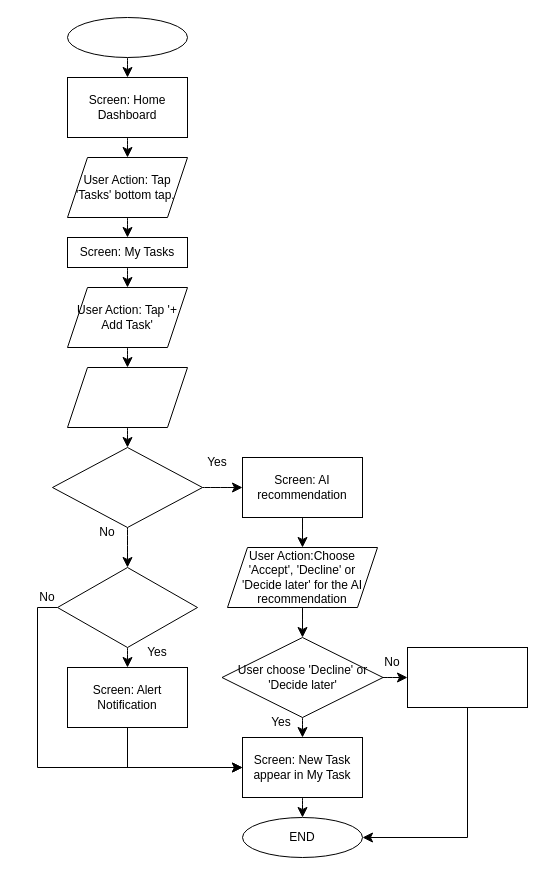
This 545x875 diagram has some shape labels left out. Here are the shapes that lost their labels. From the top down, the centre of each, then its label:
(127,37): START
(127,397): User Action: Input task details and save
(127,487): If capacity> 80%
(127,607): If capacity> 65%
(467,677): Screen: Back to My Task with no new task
